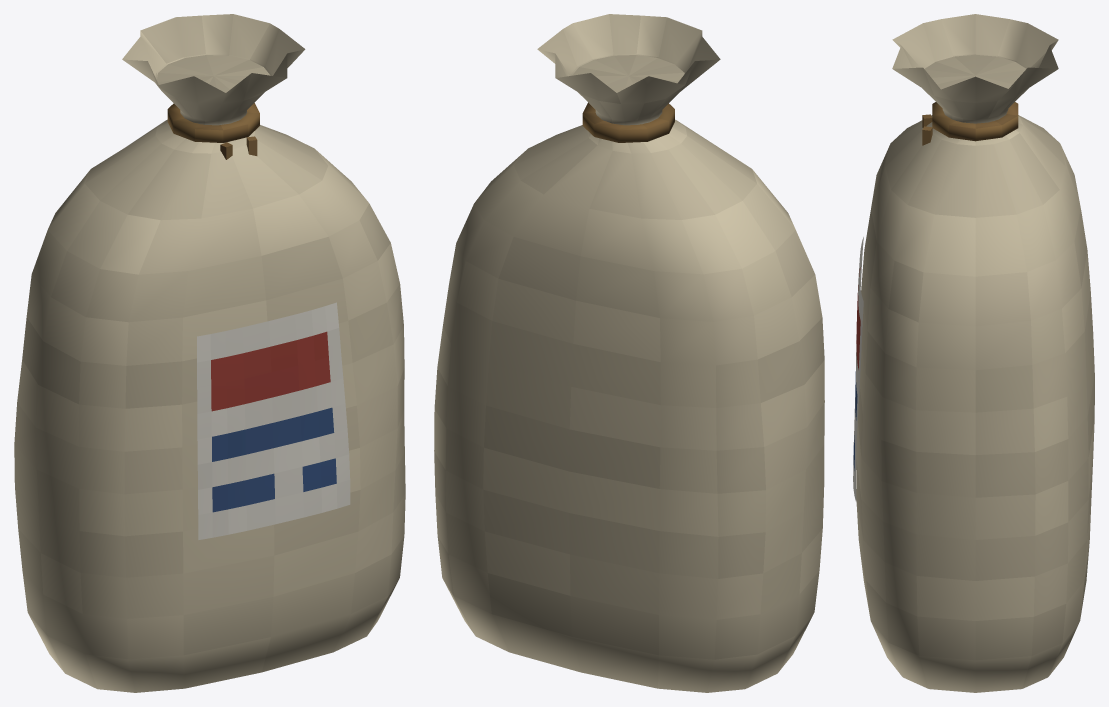
File: flour-sack.glb
3 renders of one model, left to right at view 1: azimuth 30°, elevation 25°; view 2: azimuth 150°, elevation 25°; view 3: azimuth 270°, elevation 25°, orthographic. The views are drawn at different scales.
Parts seen in each view (by area): view 1: flour-sack; view 2: flour-sack; view 3: flour-sack.
Boxes of the visible parts, x1,y1,x2,y2 form: flour-sack: [14, 14, 405, 692]; flour-sack: [434, 14, 824, 692]; flour-sack: [853, 14, 1094, 692].
Bounding box in the file's own units: 0.4154 × 0.67 × 0.2545.
